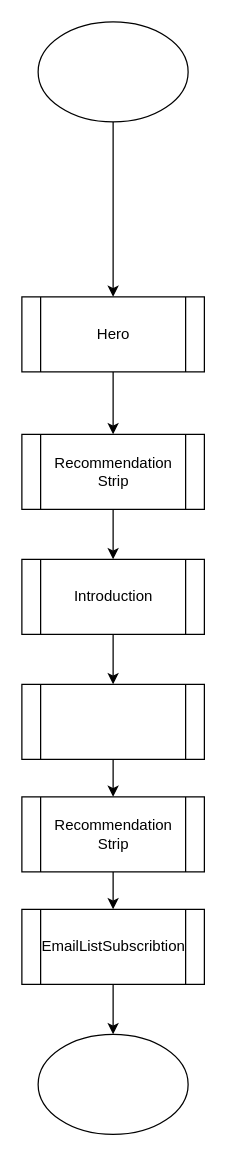
Some shapes in this 226 by 1156 pixel diagram are drawn without their labels. Each missing label, with the centre of its shape:
END: point 112,1083
ProductDiscovery: point 112,721
Start: point 112,71
